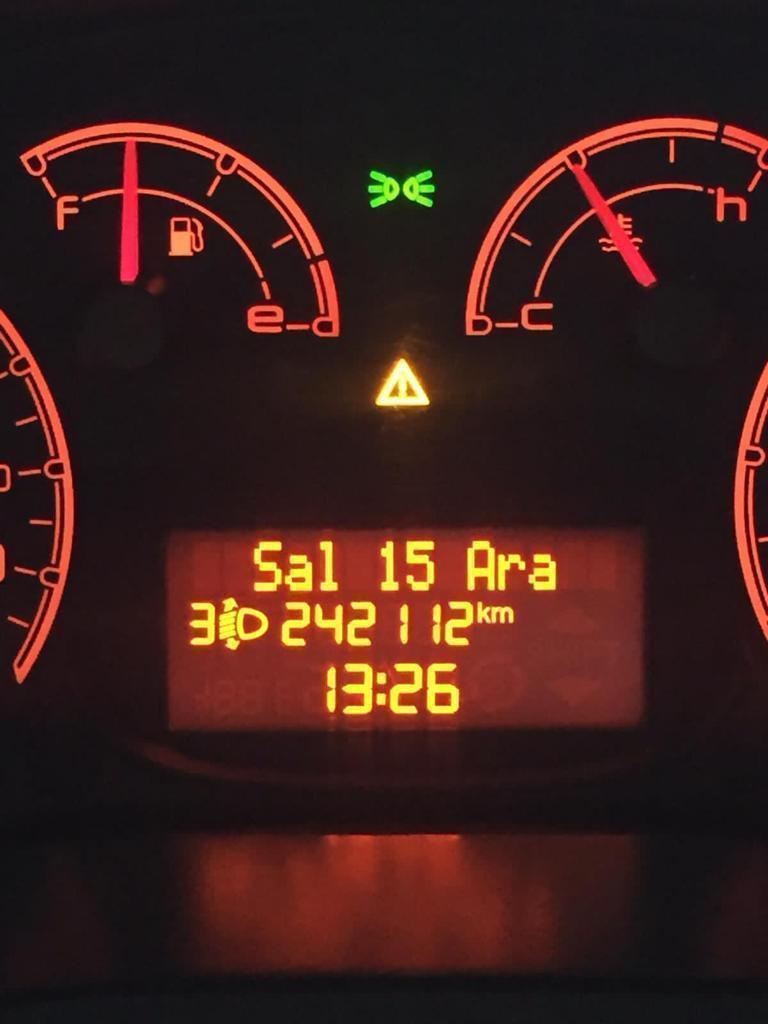1: (378, 534, 399, 593), (323, 657, 338, 717), (394, 598, 410, 648), (430, 600, 442, 647)
2: (390, 659, 424, 716), (346, 596, 376, 648), (444, 596, 473, 649), (280, 602, 309, 654)
3: (341, 660, 373, 718), (186, 598, 216, 650)
4: (313, 599, 344, 648)
5: (404, 537, 438, 593)
6: (424, 659, 462, 716)
X: (465, 537, 497, 595), (252, 537, 284, 593), (315, 535, 342, 597), (530, 552, 557, 594), (287, 553, 314, 594), (497, 551, 525, 587), (373, 666, 389, 710), (492, 604, 516, 626), (474, 599, 491, 626)
odometer: (159, 522, 651, 736)
